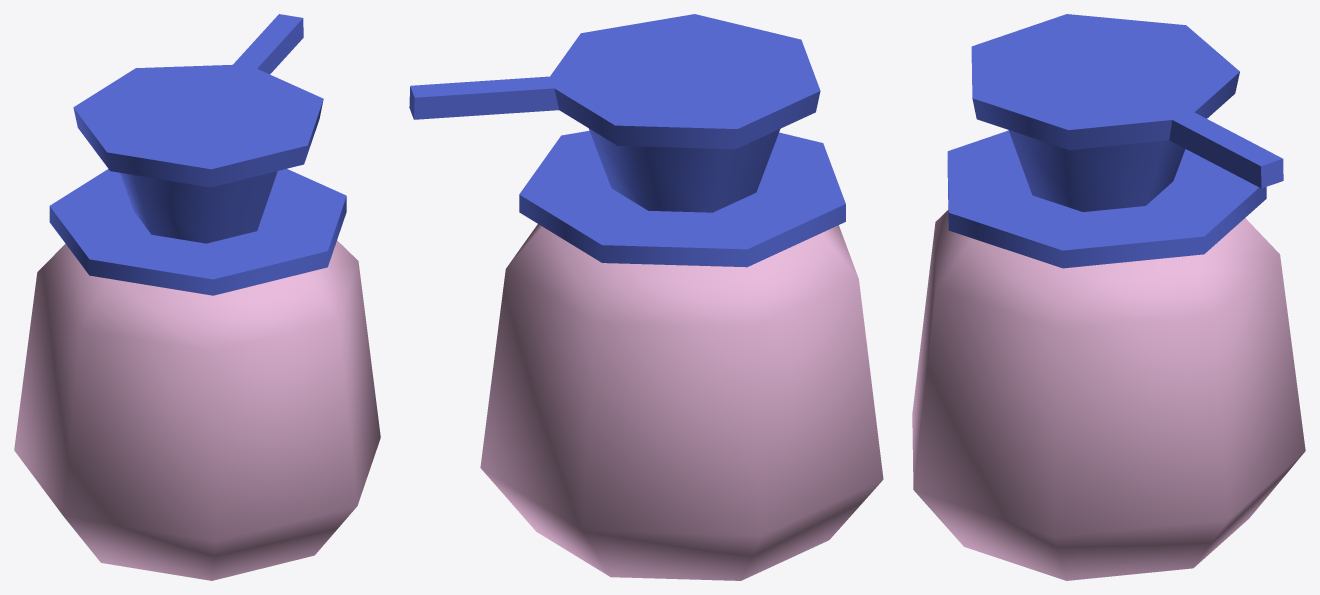
Rendered from Coffee.fbx.
3 views of the same model, side by side, from view 1: azimuth 30°, elevation 25°; view 2: azimuth 150°, elevation 25°; view 3: azimuth 270°, elevation 25° (orthographic). The views are drawn at different scales.
Parts seen in each view (by area): view 1: Cylinder; view 2: Cylinder; view 3: Cylinder.
Boxes of the visible parts, x1=… form: Cylinder: x1=14, y1=14, x2=380, y2=580; Cylinder: x1=409, y1=14, x2=883, y2=580; Cylinder: x1=912, y1=14, x2=1305, y2=580.
Bounding box in the file's own units: 18.19 × 21.12 × 16.85.
